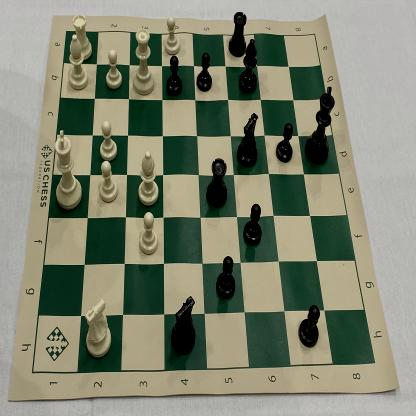bishop: (214, 252, 240, 304)
black-bishop: (238, 36, 260, 94)
black-king: (303, 80, 337, 168)
black-knight: (170, 289, 199, 357)
black-pawn: (235, 107, 262, 171), (297, 298, 322, 348), (272, 117, 296, 166), (242, 196, 264, 249), (162, 53, 184, 97), (194, 51, 216, 95)
black-rook: (202, 149, 232, 214), (225, 5, 251, 60)
white-bishop: (134, 146, 162, 210), (66, 29, 92, 96)
white-king: (46, 127, 86, 213)
white-knight: (80, 295, 116, 362)
white-pawn: (134, 207, 162, 258), (96, 158, 120, 206), (102, 45, 126, 92), (160, 12, 184, 58), (97, 116, 118, 163)
white-queen: (131, 23, 158, 98)
white-rook: (69, 10, 96, 63)
